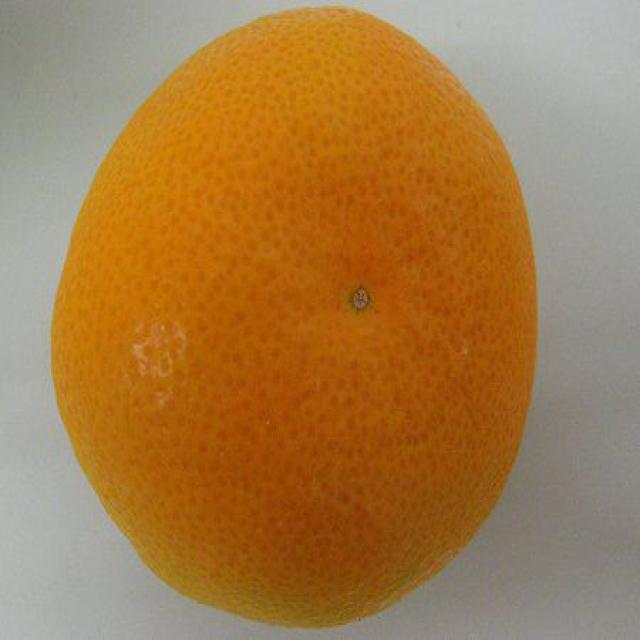Orange: (43, 10, 539, 630)
